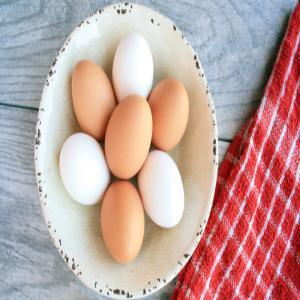Egg: (104, 94, 154, 182), (58, 131, 112, 208), (136, 148, 186, 228), (100, 178, 146, 264), (70, 60, 118, 142), (146, 76, 192, 150), (112, 30, 154, 104)
